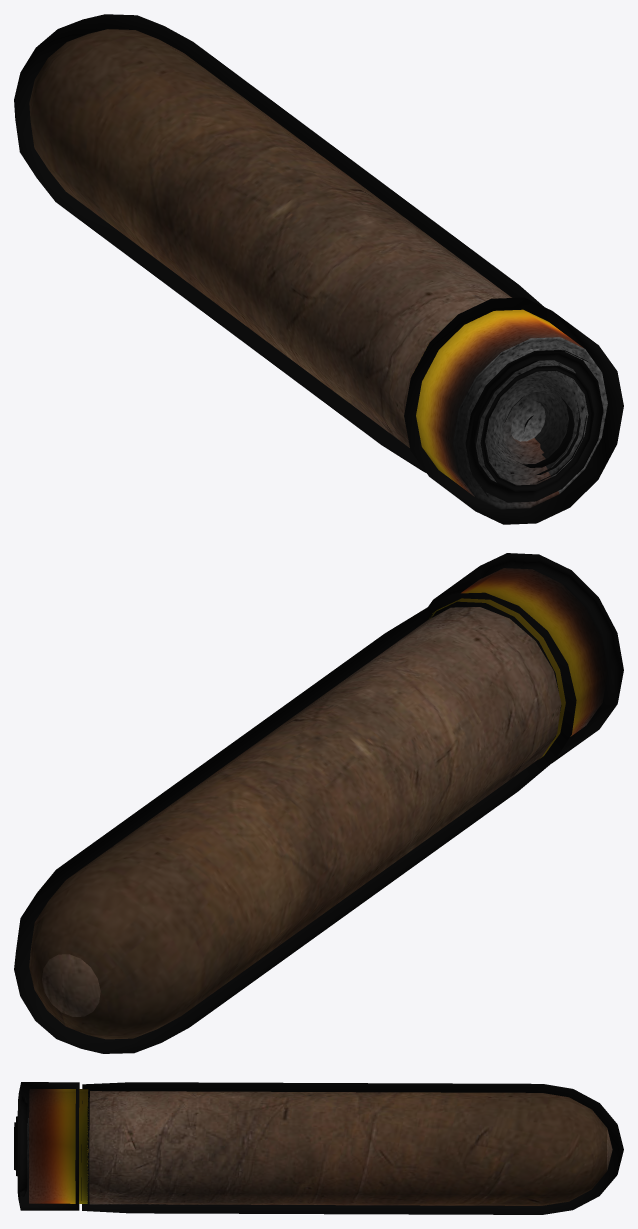
The model's file is bareto.fbx.
3 renders of one model, top to bottom at view 1: azimuth 30°, elevation 25°; view 2: azimuth 150°, elevation 25°; view 3: azimuth 270°, elevation 25°, orthographic. The views are drawn at different scales.
Visible parts, largest first — view 1: cigarr_back, cigarr_front; view 2: cigarr_back, cigarr_front; view 3: cigarr_back, cigarr_front.
Part boxes in pixels (x1,y1,x2,y2): cigarr_back: (14,14,543,472); cigarr_front: (404,297,623,524); cigarr_back: (14,592,576,1053); cigarr_front: (428,553,623,762); cigarr_back: (81,1082,623,1214); cigarr_front: (14,1082,88,1210).
Size of the model in its own units: 31.81 by 31.18 by 144.
